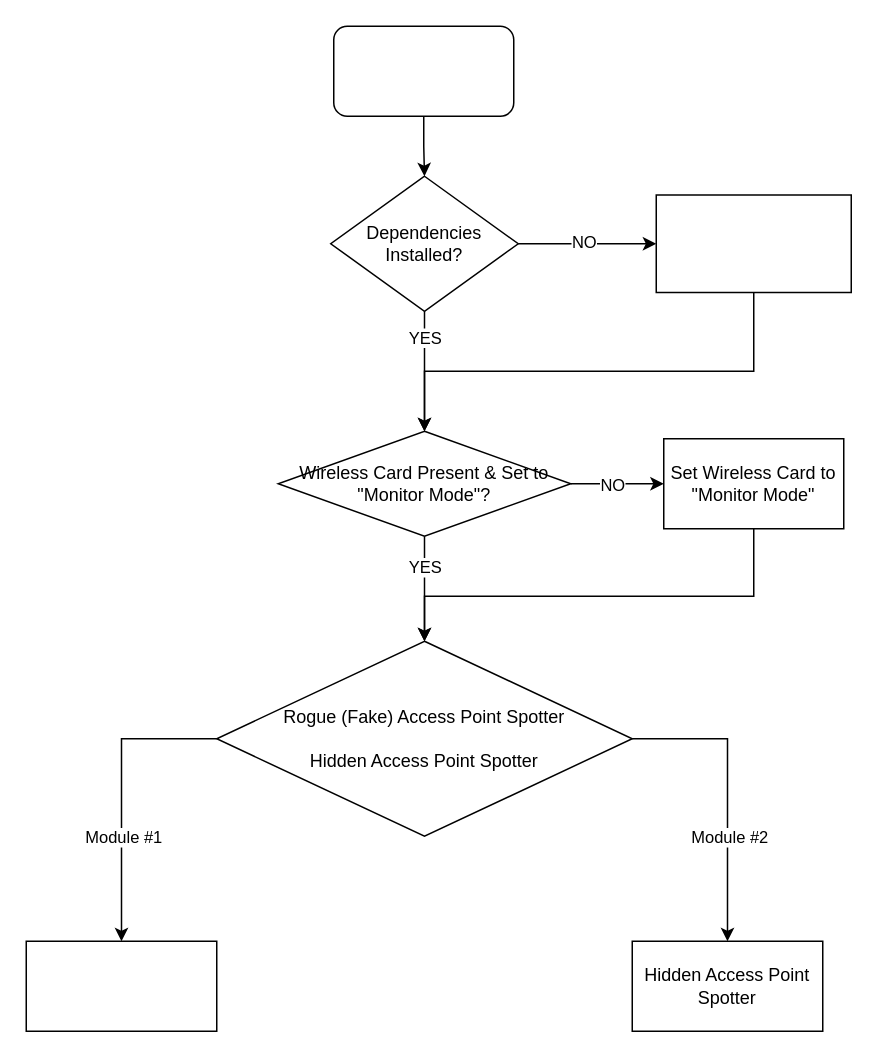
The diagram is 878 pixels wide and 1058 high, and some of its shapes have lost their labels. Each missing label, with the centre of its shape:
"Install Dependencies (./rsc/setup.sh)" belongs at (x=753, y=243).
"Main Menu" belongs at (x=423, y=70).
"Rogue (Fake) Access Point Spotter" belongs at (x=121, y=985).
